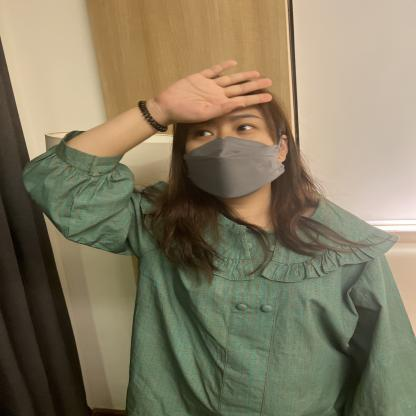Sick: (84, 61, 316, 151)
